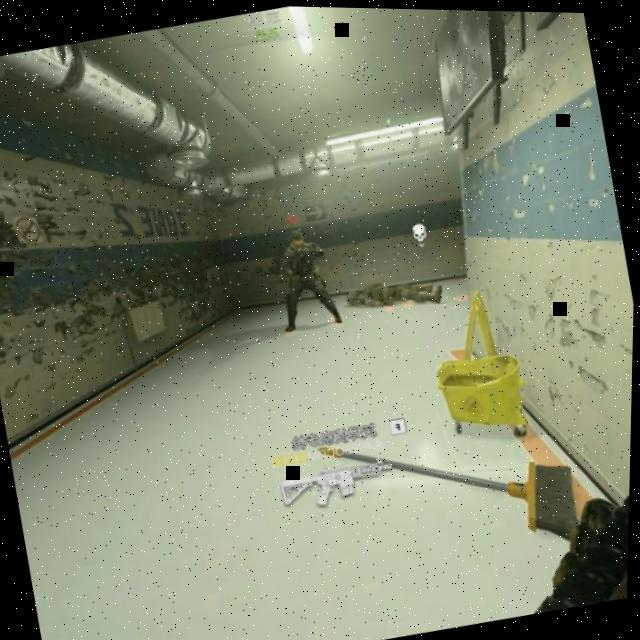MW2_body: (265, 207, 347, 334)
